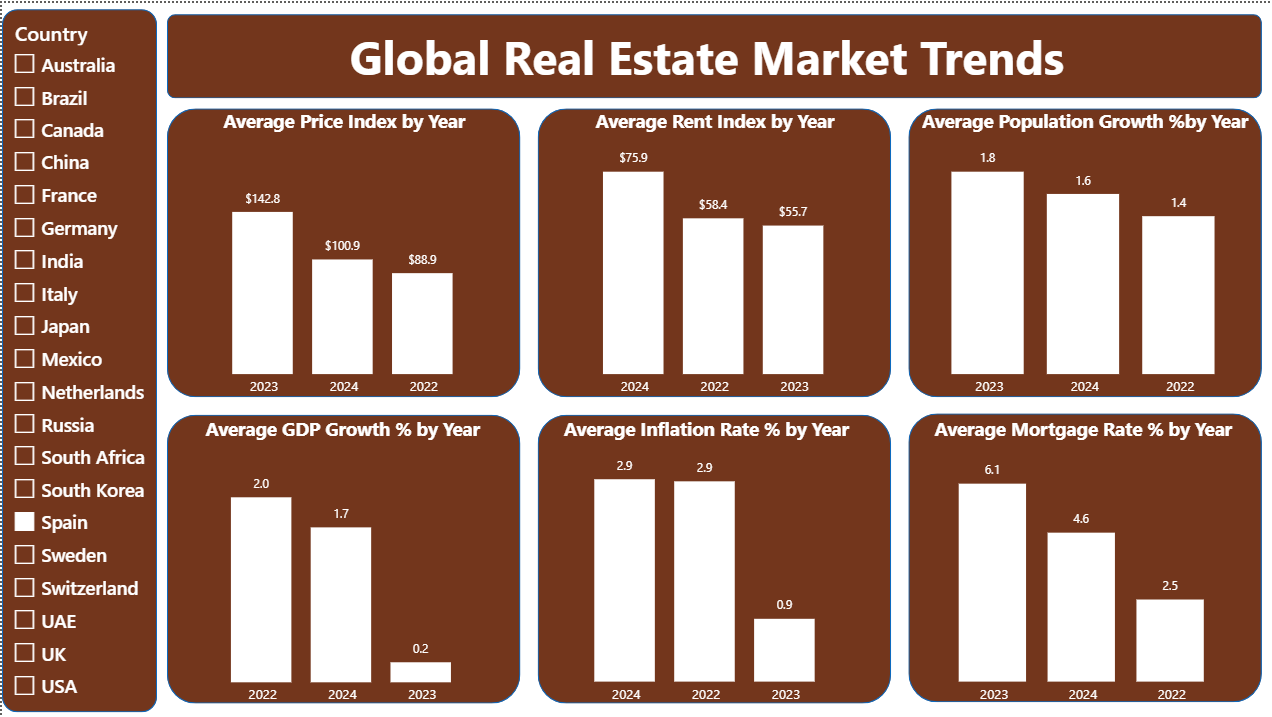

What the dashboard file says about the page in this screenshot:
{"tool":"powerbi","page":{"name":"Page 1","canvas":[1280,720],"ordinal":0},"visuals":[{"type":"shape","box":[0,6.2,156.2,708.8],"z":0},{"type":"shape","box":[166.2,106.2,356.2,291.2],"z":1000},{"type":"shape","box":[540,106.2,356.2,291.2],"z":2000},{"type":"shape","box":[913.8,413.8,356.2,291.2],"z":3000},{"type":"shape","box":[540,415,356.2,291.2],"z":4000},{"type":"shape","box":[166.2,415,356.2,291.2],"z":5000},{"type":"shape","box":[913.8,106.2,356.2,291.2],"z":6000},{"type":"columnChart","title":"Average Price Index by Year","fields":{"Category":["Real_Estate_Trends.Year"],"Y":["Avg(Real_Estate_Trends.House Price Index)"]},"box":[195,106.2,300,300],"z":7000},{"type":"slicer","fields":{"Values":["Real_Estate_Trends.Country"]},"box":[0,11.2,156.2,708.8],"z":8000},{"type":"columnChart","title":"Average Population Growth %by Year","fields":{"Category":["Real_Estate_Trends.Year"],"Y":["Avg(Real_Estate_Trends.Population Growth (%))"]},"box":[913.8,106.2,356.2,300],"z":9000},{"type":"columnChart","title":"Average Rent Index by Year","fields":{"Category":["Real_Estate_Trends.Year"],"Y":["Avg(Real_Estate_Trends.Rent Index)"]},"box":[568.8,106.2,300,300],"z":10000},{"type":"columnChart","title":"Average GDP Growth % by Year","fields":{"Category":["Real_Estate_Trends.Year"],"Y":["Avg(Real_Estate_Trends.GDP Growth (%))"]},"box":[195,411.2,300,300],"z":11000},{"type":"columnChart","title":"Average Inflation Rate % by Year","fields":{"Category":["Real_Estate_Trends.Year"],"Y":["Avg(Real_Estate_Trends.Inflation Rate (%))"]},"box":[560,416.2,300,300],"z":12000},{"type":"columnChart","title":"Average Mortgage Rate % by Year","fields":{"Category":["Real_Estate_Trends.Year"],"Y":["Avg(Real_Estate_Trends.Mortgage Rate (%))"]},"box":[923.8,416.2,332.5,300],"z":13000},{"type":"shape","box":[166.2,11.2,1103.8,85],"z":14000},{"type":"textbox","title":"Global Real Estate Market Trends","box":[213.8,22.5,993.8,62.5],"z":15000}]}

Visuals, with their boxes in screenshot pixels (x1, y1, x2, y2), scaled from the page's 1280x720 canvas onto the 1272x717 screenshot:
shape: l=0, t=6, r=155, b=712
shape: l=165, t=106, r=519, b=396
shape: l=537, t=106, r=891, b=396
shape: l=908, t=412, r=1262, b=702
shape: l=537, t=413, r=891, b=703
shape: l=165, t=413, r=519, b=703
shape: l=908, t=106, r=1262, b=396
"Average Price Index by Year" columnChart: l=194, t=106, r=492, b=405
slicer - Real_Estate_Trends.Country: l=0, t=11, r=155, b=716
"Average Population Growth %by Year" columnChart: l=908, t=106, r=1262, b=405
"Average Rent Index by Year" columnChart: l=565, t=106, r=863, b=405
"Average GDP Growth % by Year" columnChart: l=194, t=409, r=492, b=708
"Average Inflation Rate % by Year" columnChart: l=556, t=414, r=855, b=713
"Average Mortgage Rate % by Year" columnChart: l=918, t=414, r=1248, b=713
shape: l=165, t=11, r=1262, b=96
"Global Real Estate Market Trends" textbox: l=212, t=22, r=1200, b=85
